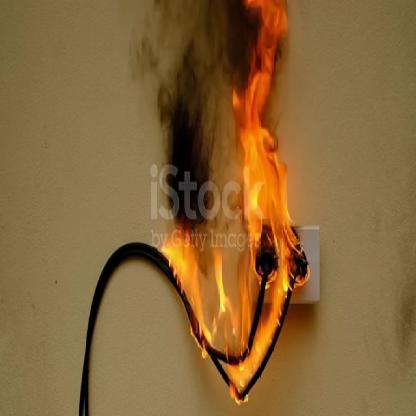fire: (166, 0, 314, 398)
smoke: (140, 0, 252, 252)
